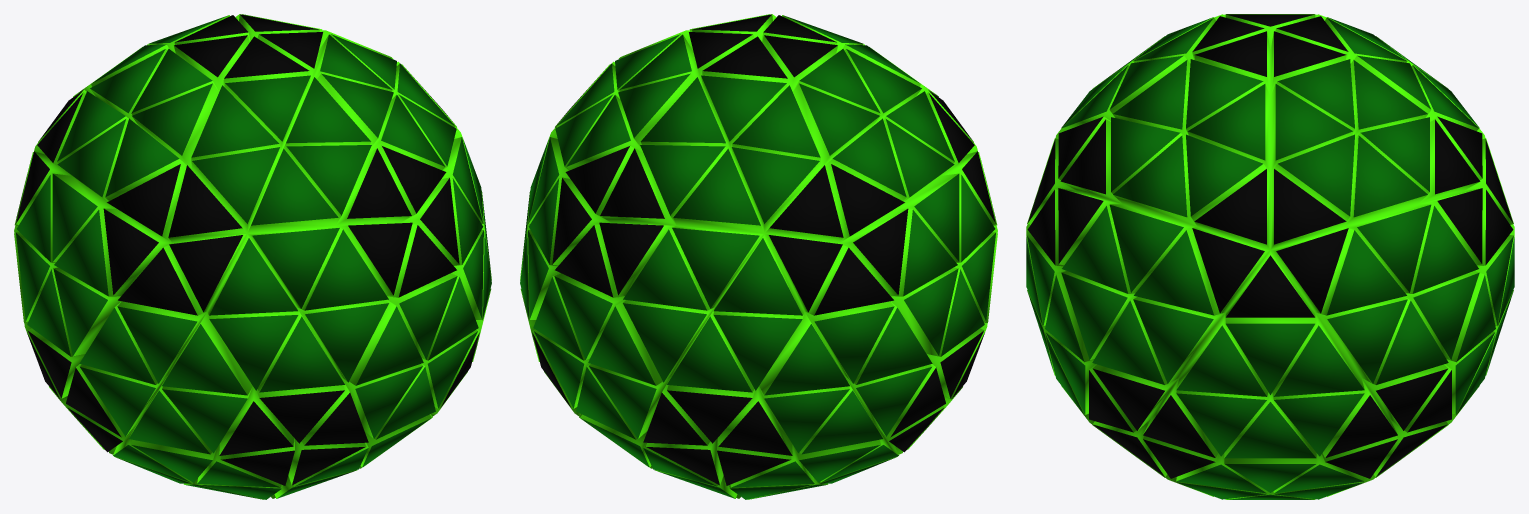
The model's file is soccer_ball.glb.
3 renders of one model, left to right at view 1: azimuth 30°, elevation 25°; view 2: azimuth 150°, elevation 25°; view 3: azimuth 270°, elevation 25°, orthographic. The views are drawn at different scales.
Parts seen in each view (by area): view 1: ball.jpg__; view 2: ball.jpg__; view 3: ball.jpg__.
Part boxes in pixels (box(x1,y1,x2,y2)): ball.jpg__: box(14, 14, 491, 499); ball.jpg__: box(520, 14, 997, 499); ball.jpg__: box(1026, 14, 1514, 499).
Bounding box in the file's own units: 1.76 × 1.84 × 1.79.
Materials: 1 (1 with a texture image).
